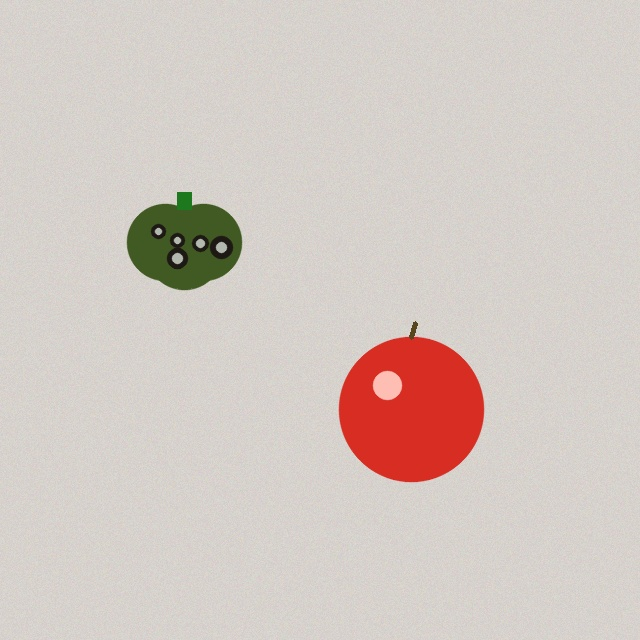Fresh apple: (339, 323, 483, 481)
Rotten bell pepper: (127, 192, 241, 289)
